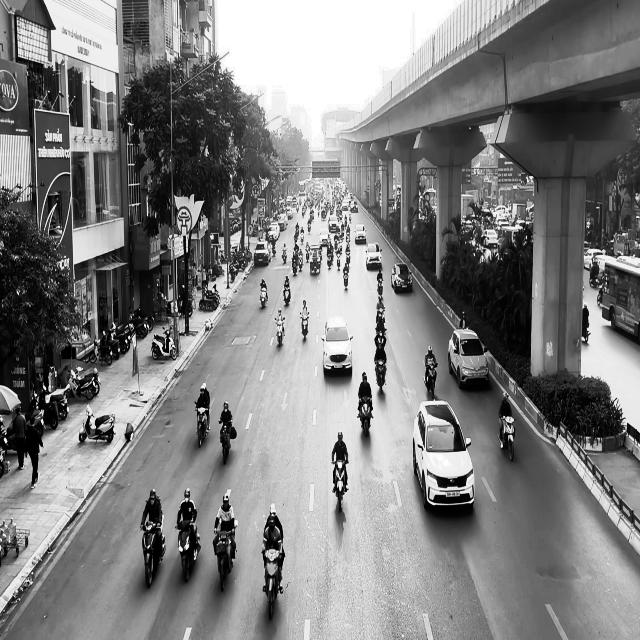bus: (601, 255, 640, 344)
car: (412, 400, 475, 510), (448, 328, 489, 388), (321, 315, 353, 375), (390, 263, 412, 292), (365, 242, 382, 270), (354, 224, 366, 242)
motorbike: (140, 515, 165, 588), (174, 519, 201, 583), (213, 521, 237, 591), (262, 548, 283, 620), (78, 404, 115, 443), (498, 412, 516, 461), (332, 458, 348, 512), (151, 326, 176, 359), (218, 418, 234, 464), (194, 401, 210, 446), (357, 396, 373, 437), (423, 361, 438, 400), (374, 357, 386, 393), (274, 317, 285, 346), (300, 312, 309, 340), (260, 286, 268, 308), (283, 284, 290, 305)
